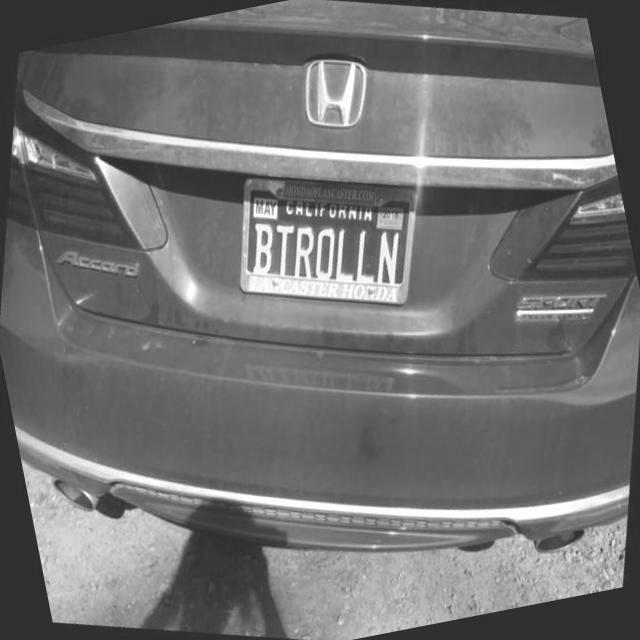LicensePlate: (236, 176, 418, 305)
